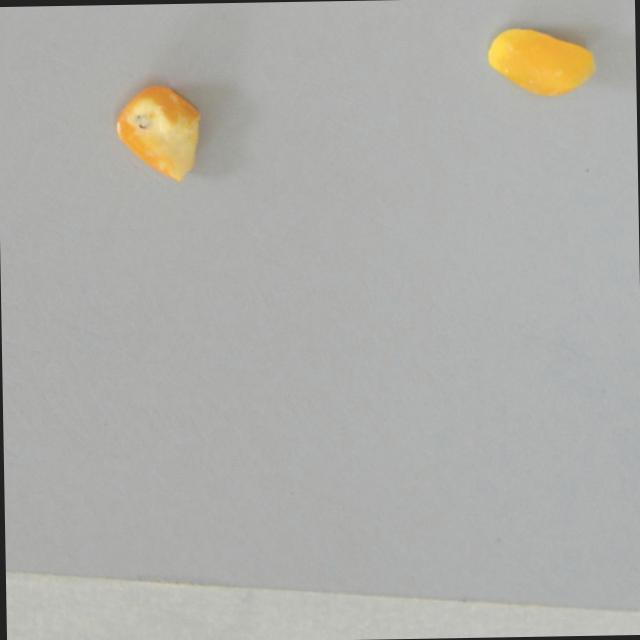dañado: (109, 74, 209, 191)
estandar: (476, 26, 605, 111)
